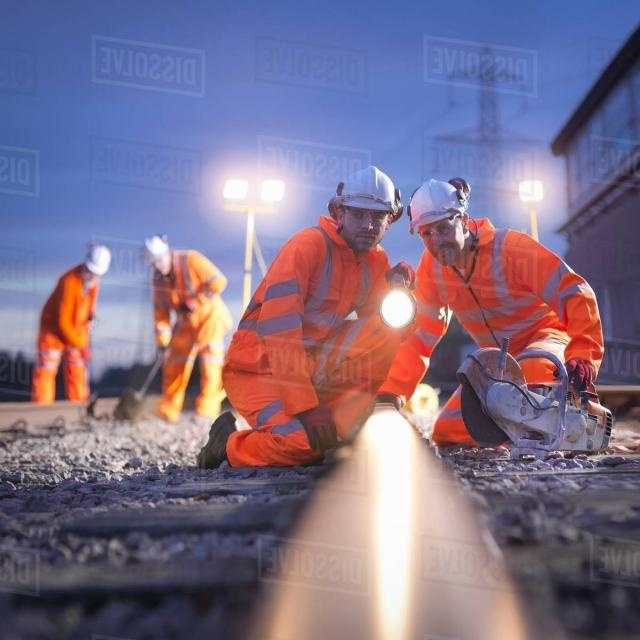Con_Casco: (329, 163, 399, 245), (408, 177, 472, 256)
